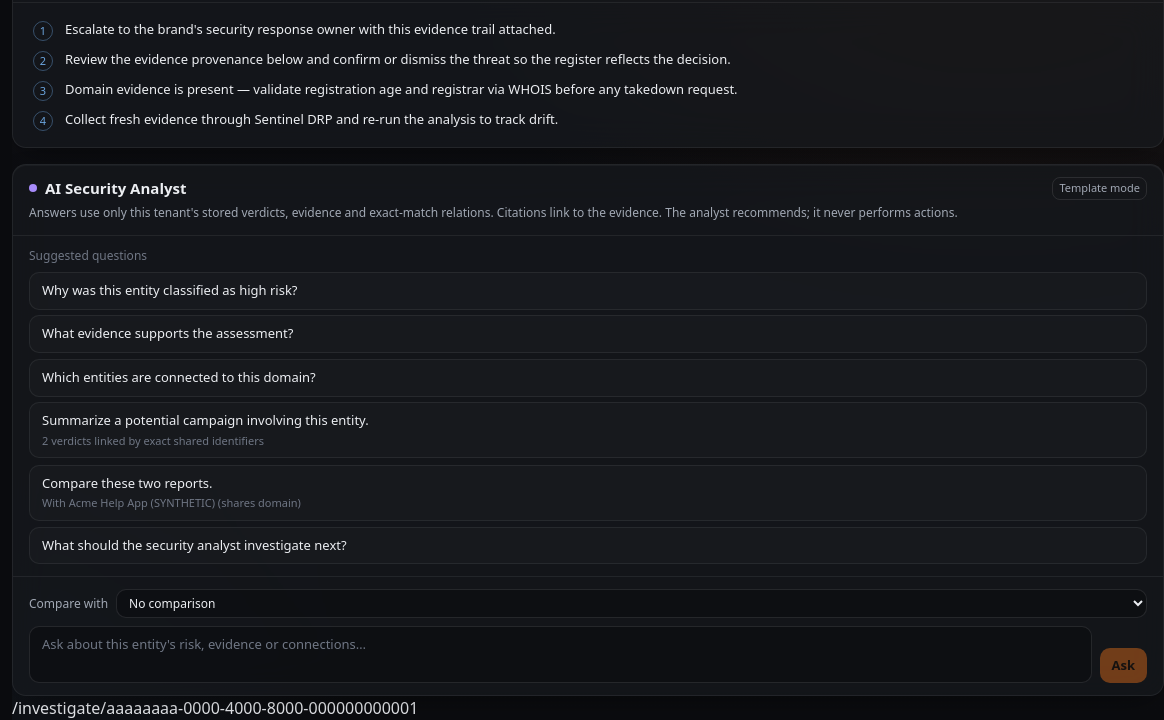
Test case: Investigation workspace › compares two reports with one click
(page scrolled)
Click the button "Compare these two reports" at coordinates (127, 483), box [29,465,1147,521]
(page scrolled)
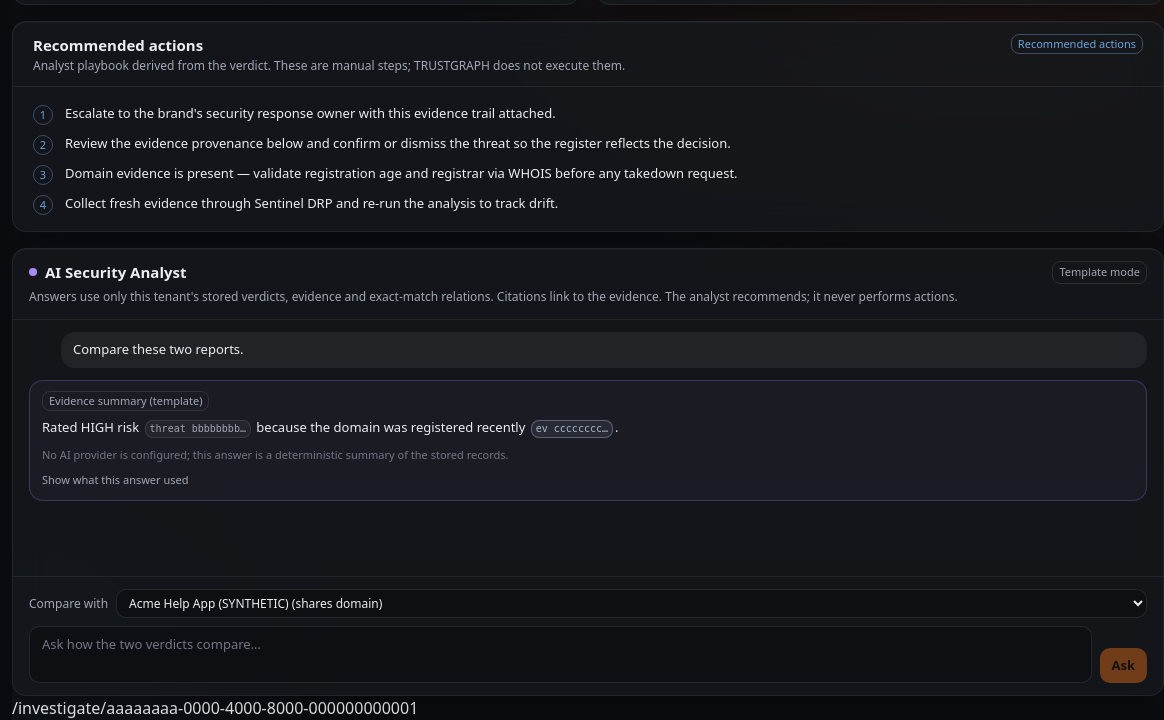
Expected: the text "Evidence summary (template)" is shown, [42,391,210,411]
Expected: the dropdown labelled "Compare with" shows "Acme Help App (SYNTHETIC) (shares domain)", [116,589,1147,618]
